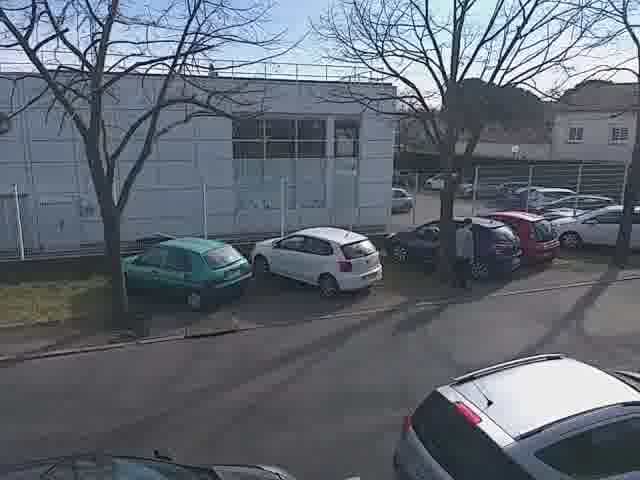persona: (443, 211, 483, 301)
